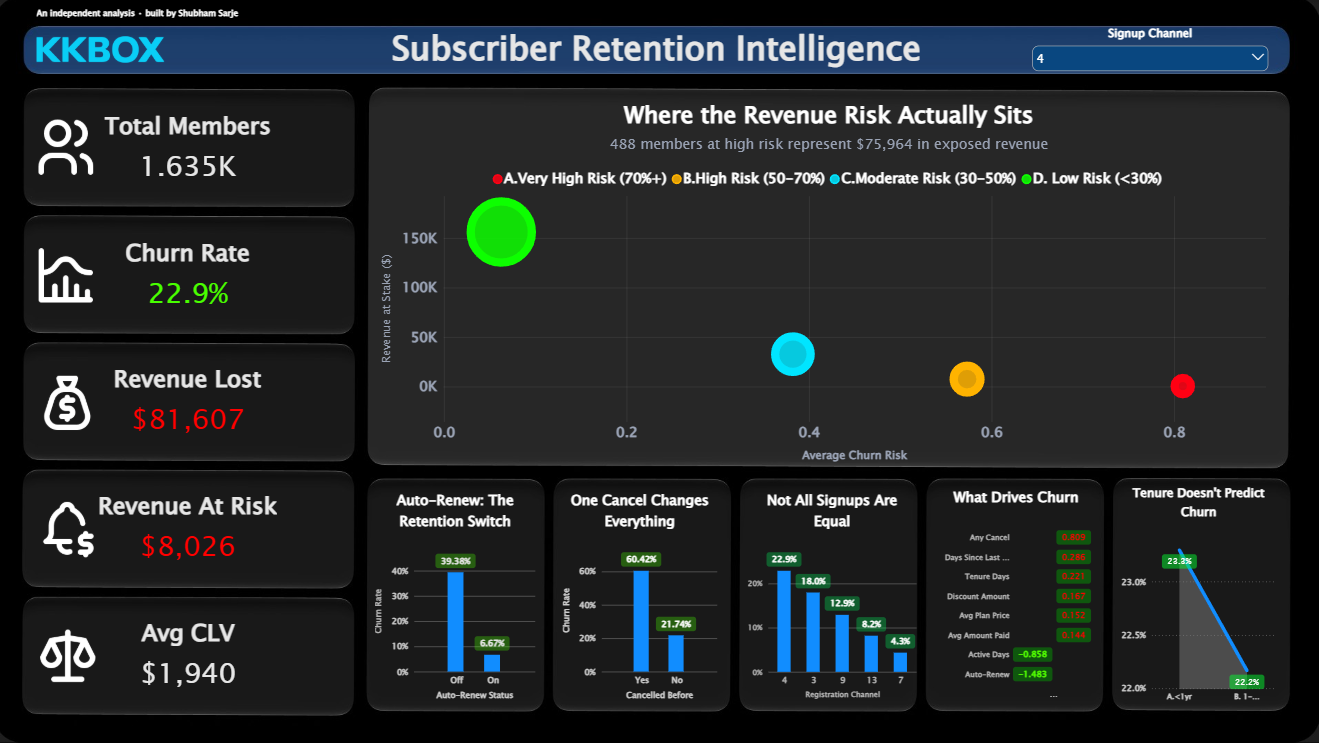

The page's visual inventory and layout, read from the dashboard file:
{"tool":"powerbi","page":{"name":"Page 1","canvas":[1920,1080],"ordinal":0},"visuals":[{"type":"cardVisual","title":"Total Members","fields":{"Data":["_Measures.Total Members"]},"box":[48,128,464,176],"z":0},{"type":"cardVisual","title":"Total Members","fields":{"Data":["_Measures.Churn Rate"]},"box":[48,320,464,160],"z":1000},{"type":"cardVisual","title":"Total Members","fields":{"Data":["_Measures.Revenue Lost"]},"box":[48,496,464,176],"z":2000},{"type":"cardVisual","title":"Total Members","fields":{"Data":["_Measures.Avg CLV"]},"box":[48,864,464,176],"z":3000},{"type":"cardVisual","title":"Total Members","fields":{"Data":["_Measures.Revenue At Risk"]},"box":[48,688,464,160],"z":4000},{"type":"scatterChart","title":"Where the Revenue Risk Actually Sits","fields":{"Series":["members.Risk Tier"],"Size":["_Measures.Risk Tier Member Count"],"X":["_Measures.Risk Tier Avg Risk"],"Y":["_Measures.Risk Tier Revenue"]},"box":[544,128,1328,560],"z":5000},{"type":"columnChart","title":"Auto-Renew: The Retention Switch","fields":{"Category":["members.Auto Renew Label"],"Y":["_Measures.Churn Rate"]},"box":[536,696,264,336],"z":6000},{"type":"columnChart","title":"One Cancel Changes Everything","fields":{"Category":["members.Cancel Label"],"Y":["_Measures.Churn Rate"]},"box":[808,696,256,336],"z":7000},{"type":"clusteredColumnChart","title":"Not All Signups Are Equal","fields":{"Category":["Channel Impact.registered_via"],"Y":["Sum(Channel Impact.Churn Rate)"]},"box":[1074.9,696.7,276.9,334.8],"z":8000},{"type":"barChart","title":"What Drives Churn","fields":{"Category":["Feature Importance2.Feature"],"Y":["Sum(Feature Importance2.Coefficient)"]},"box":[1352,696,256,336],"z":9000},{"type":"lineChart","title":"Tenure Doesn''t Predict Churn","fields":{"Category":["members.Tenure Cohort1"],"Y":["_Measures.Churn Rate"]},"box":[1616,688,256,352],"z":10000},{"type":"slicer","title":"Signup Channel","fields":{"Values":["members.registered_via"]},"box":[1498.4,38,351.1,88.7],"z":11000},{"type":"image","box":[52.5,166.5,103.2,95.9],"z":12000},{"type":"image","box":[54.3,352.9,99.5,94.1],"z":13000},{"type":"image","box":[52.5,537.5,106.8,94.1],"z":14000},{"type":"image","box":[54.3,720.2,103.2,92.3],"z":15000},{"type":"image","box":[52.5,904.8,108.6,95.9],"z":16000},{"type":"image","box":[61.5,50.7,184.6,45.2],"z":17000},{"type":"textbox","box":[555.6,36.2,807.1,74.2],"z":18000},{"type":"textbox","box":[61.5,9,371,29],"z":19000}]}

Visuals, with their boxes in screenshot pixels (x1, y1, x2, y2), scaled from the page's 1920x1080 canvas onto the 1319x743 screenshot:
"Total Members" cardVisual: {"left": 33, "top": 88, "right": 352, "bottom": 209}
"Total Members" cardVisual: {"left": 33, "top": 220, "right": 352, "bottom": 330}
"Total Members" cardVisual: {"left": 33, "top": 341, "right": 352, "bottom": 462}
"Total Members" cardVisual: {"left": 33, "top": 594, "right": 352, "bottom": 715}
"Total Members" cardVisual: {"left": 33, "top": 473, "right": 352, "bottom": 583}
"Where the Revenue Risk Actually Sits" scatterChart: {"left": 374, "top": 88, "right": 1286, "bottom": 473}
"Auto-Renew: The Retention Switch" columnChart: {"left": 368, "top": 479, "right": 550, "bottom": 710}
"One Cancel Changes Everything" columnChart: {"left": 555, "top": 479, "right": 731, "bottom": 710}
"Not All Signups Are Equal" clusteredColumnChart: {"left": 738, "top": 479, "right": 929, "bottom": 710}
"What Drives Churn" barChart: {"left": 929, "top": 479, "right": 1105, "bottom": 710}
"Tenure Doesn''t Predict Churn" lineChart: {"left": 1110, "top": 473, "right": 1286, "bottom": 715}
"Signup Channel" slicer: {"left": 1029, "top": 26, "right": 1271, "bottom": 87}
image: {"left": 36, "top": 115, "right": 107, "bottom": 181}
image: {"left": 37, "top": 243, "right": 106, "bottom": 308}
image: {"left": 36, "top": 370, "right": 109, "bottom": 435}
image: {"left": 37, "top": 495, "right": 108, "bottom": 559}
image: {"left": 36, "top": 622, "right": 111, "bottom": 688}
image: {"left": 42, "top": 35, "right": 169, "bottom": 66}
textbox: {"left": 382, "top": 25, "right": 936, "bottom": 76}
textbox: {"left": 42, "top": 6, "right": 297, "bottom": 26}
